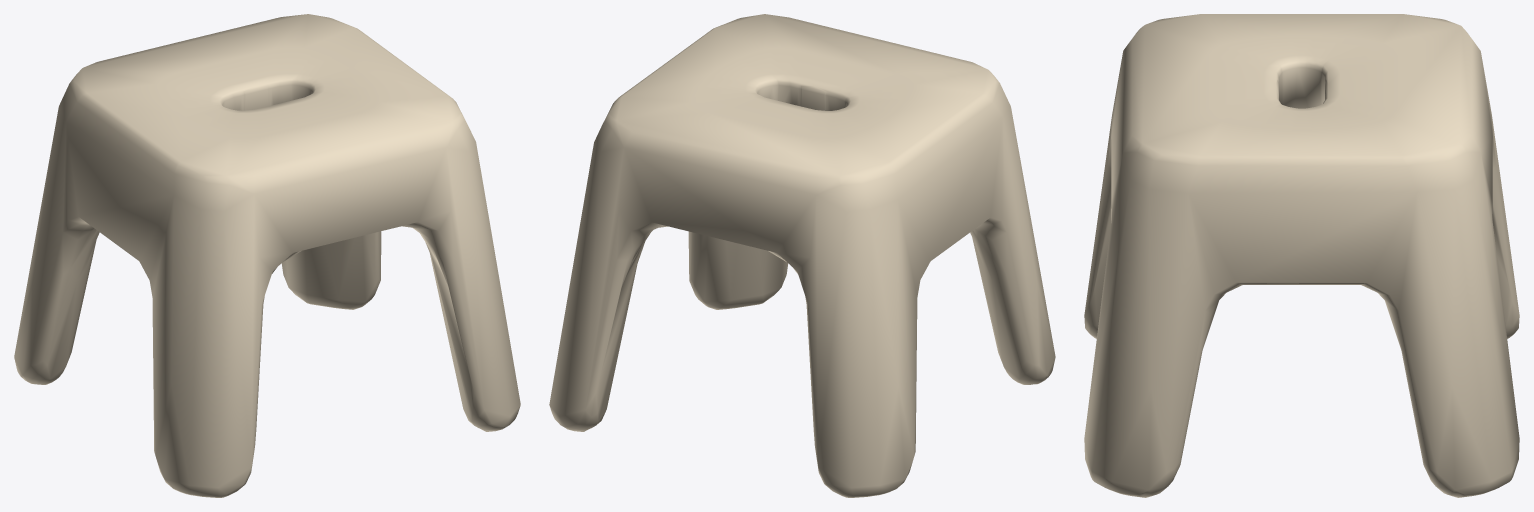
File: bath_stool_lod_medium.glb
3 renders of one model, left to right at view 1: azimuth 30°, elevation 25°; view 2: azimuth 150°, elevation 25°; view 3: azimuth 270°, elevation 25°, orthographic. The views are drawn at different scales.
Parts seen in each view (by area): view 1: bath_stool_lod_medium; view 2: bath_stool_lod_medium; view 3: bath_stool_lod_medium.
Boxes of the visible parts, left/top/right/bottom form: bath_stool_lod_medium: left=14, top=14, right=520, bottom=497; bath_stool_lod_medium: left=549, top=14, right=1055, bottom=497; bath_stool_lod_medium: left=1084, top=14, right=1519, bottom=497.
Bounding box in the file's own units: 0.36 × 0.3 × 0.36.
